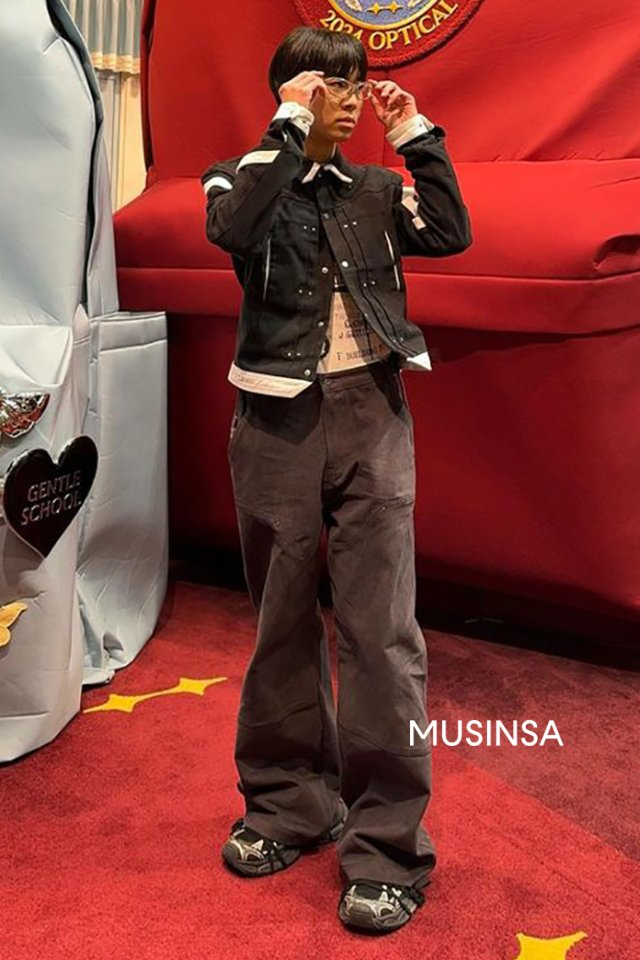Glasses: (314, 75, 377, 102)
Outer: (191, 112, 465, 392)
Pants: (226, 356, 447, 894)
Shoes: (213, 789, 439, 939)
